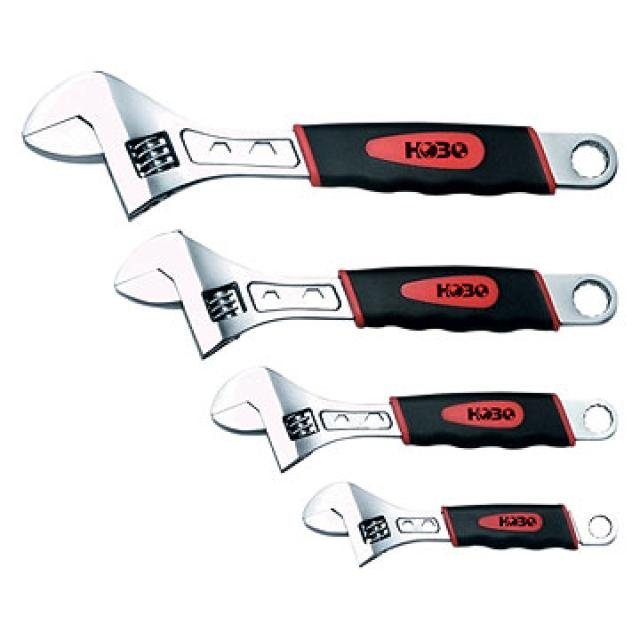wrench: (16, 40, 634, 216), (97, 225, 640, 368), (183, 356, 640, 480), (268, 479, 640, 570)
